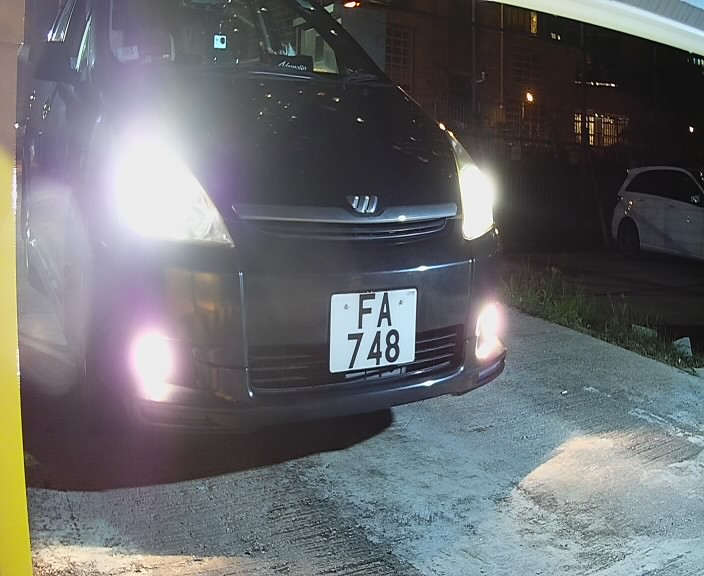License Plate: (325, 279, 426, 388)
